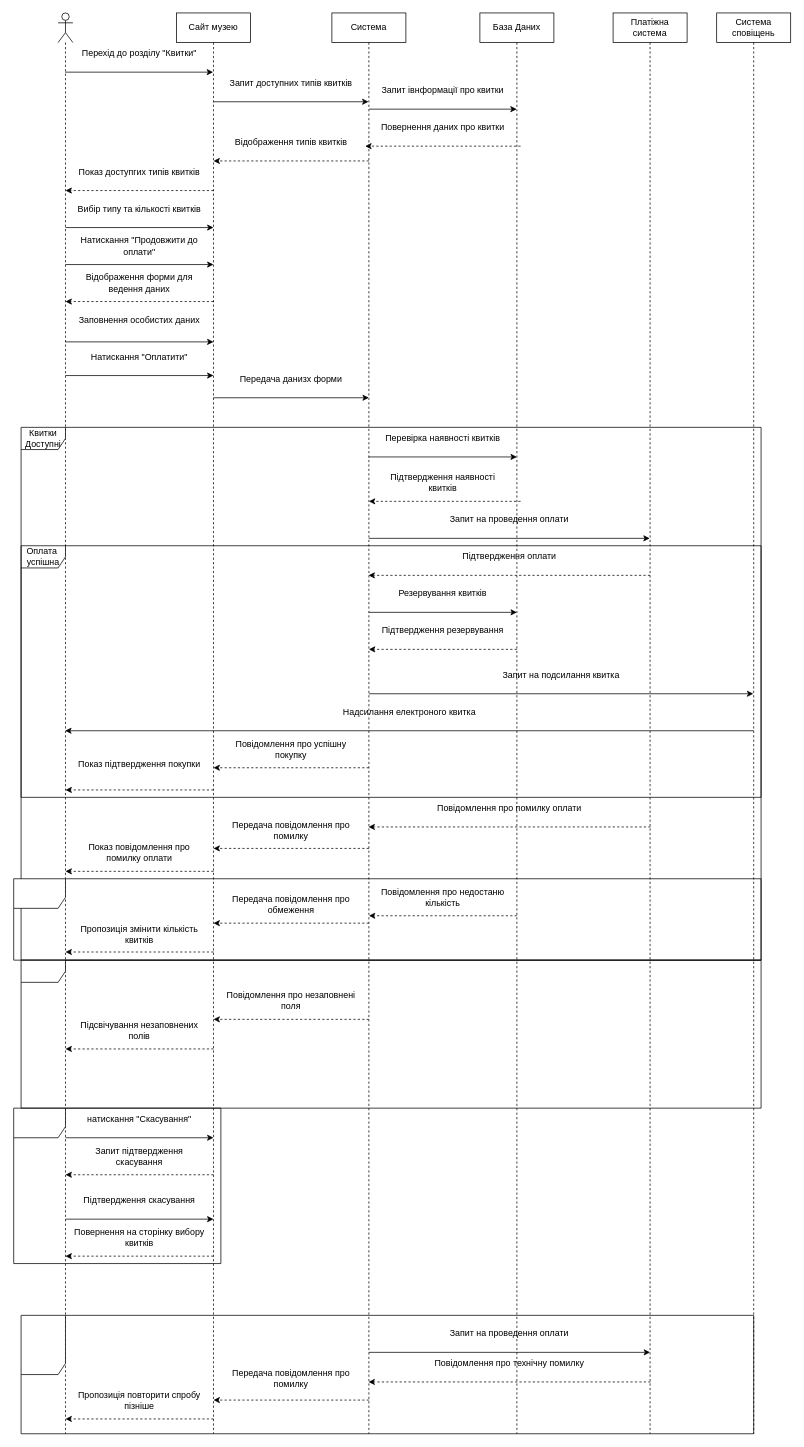
The diagram is 804 pixels wide and 1447 high, and some of its shapes have lost their labels. The shapes that lost their labels are listed below. From the top down, each one's centre as x and y in pixels, then its label:
pixel 387 919: Недостатння кількість квитків
pixel 390 1033: Помилка валідації
pixel 117 1185: Скасування Оплати
pixel 387 1374: Проблема з платіжною системою
